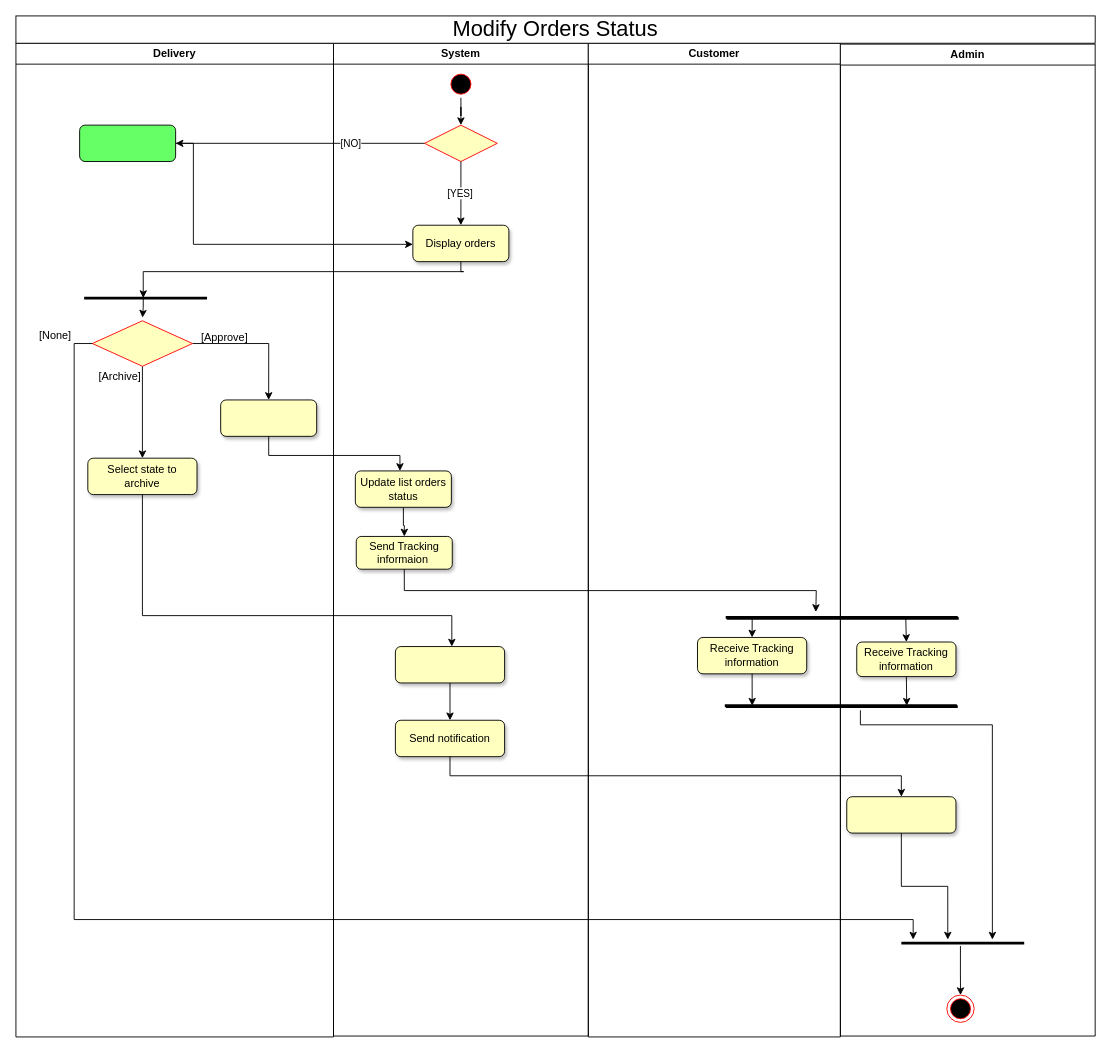
Some shapes in this 1111 by 1053 pixel diagram are drawn without their labels. Here are the shapes that lost their labels. From the top down, the centre of each, then its label:
point 127,143: Login
point 460,143: Is login?
point 141,343: Choose action
point 269,419: Add to delivery list
point 450,665: Update order state
point 901,815: Receive notification
